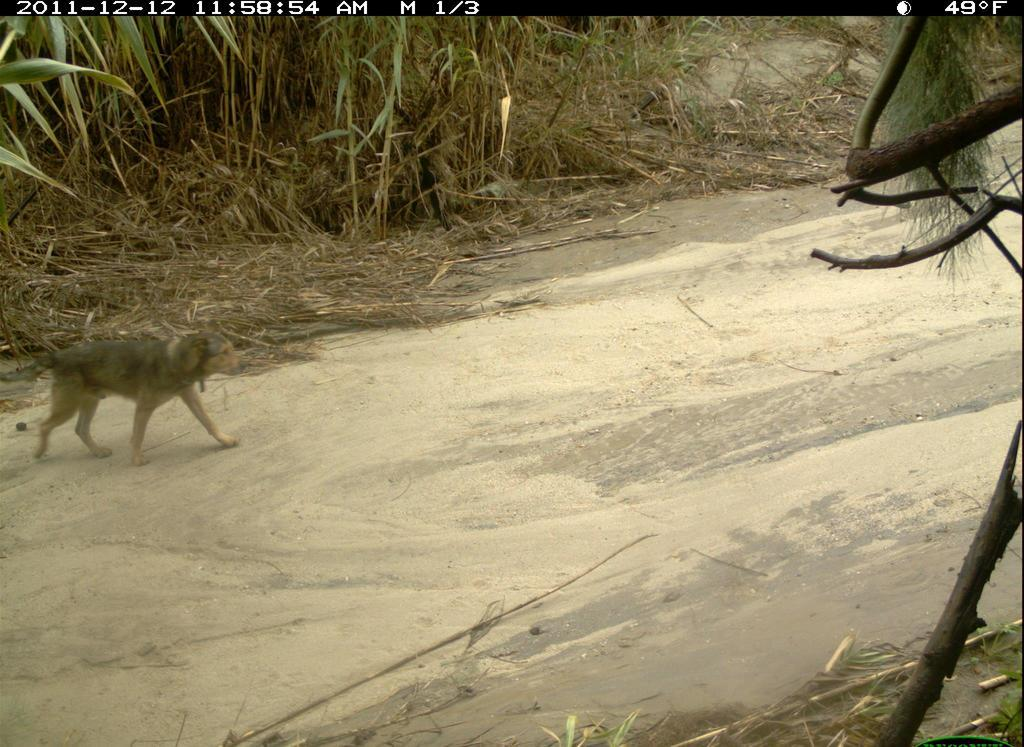dog: (1, 310, 259, 461)
